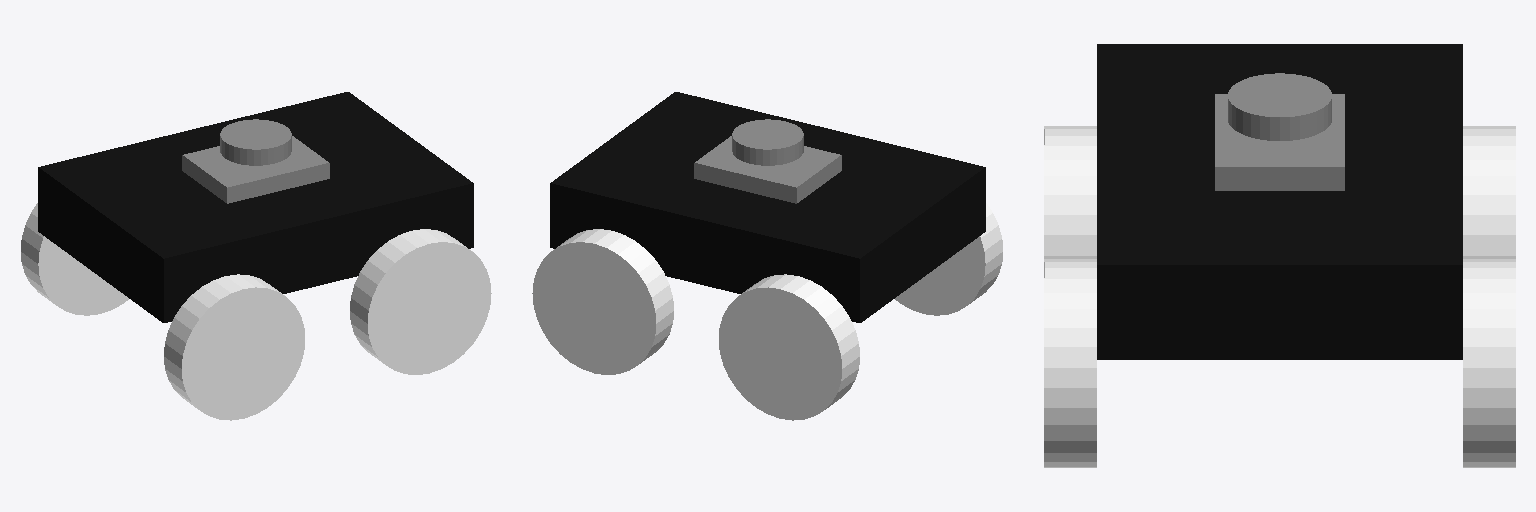
The robot description file, URDF, robot "waverover":
<?xml version="1.0" ?>
<!-- =================================================================================== -->
<!-- |    This document was autogenerated by xacro from waverover.xacro                | -->
<!-- |    EDITING THIS FILE BY HAND IS NOT RECOMMENDED                                 | -->
<!-- =================================================================================== -->
<robot name="waverover">
  <material name="black_color">
    <color rgba="0.1 0.1 0.1 1"/>
  </material>
  <material name="gray">
    <color rgba="0.6 0.6 0.6 1"/>
  </material>
  <material name="white">
    <color rgba="1 1 1 1"/>
  </material>
  <link name="base">
    <visual>
      <geometry>
        <box size="1.0 0.7 0.2"/>
      </geometry>
      <origin rpy="0 0 0" xyz="0 0 0.4"/>
      <material name="black_color"/>
    </visual>
  </link>
  <link name="wheel1">
    <visual>
      <geometry>
        <cylinder length="0.1" radius="0.2"/>
      </geometry>
      <origin rpy="1.5707 0 0" xyz="0 0 0.2"/>
      <material name="white"/>
    </visual>
  </link>
  <link name="wheel2">
    <visual>
      <geometry>
        <cylinder length="0.1" radius="0.2"/>
      </geometry>
      <origin rpy="1.5707 0 0" xyz="0 0 0.2"/>
      <material name="white"/>
    </visual>
  </link>
  <link name="wheel3">
    <visual>
      <geometry>
        <cylinder length="0.1" radius="0.2"/>
      </geometry>
      <origin rpy="1.5707 0 0" xyz="0 0 0.2"/>
      <material name="white"/>
    </visual>
  </link>
  <link name="wheel4">
    <visual>
      <geometry>
        <cylinder length="0.1" radius="0.2"/>
      </geometry>
      <origin rpy="1.5707 0 0" xyz="0 0 0.2"/>
      <material name="white"/>
    </visual>
  </link>
  <link name="lidar_base">
    <visual>
      <geometry>
        <box size="0.33 0.25 0.10"/>
      </geometry>
      <origin rpy="0 0 0" xyz="0 0 0.4"/>
      <material name="gray"/>
    </visual>
  </link>
  <link name="lidar">
    <visual>
      <geometry>
        <cylinder length="0.05" radius="0.1"/>
      </geometry>
      <origin rpy="0 0 0" xyz="0 0 0.4"/>
      <material name="gray"/>
    </visual>
  </link>
  <joint name="joint_wheel1" type="continuous">
    <parent link="base"/>
    <child link="wheel1"/>
    <origin rpy="0 0 0" xyz="0.3 0.4 0"/>
    <axis xyz="0 1 0"/>
  </joint>
  <joint name="joint_wheel2" type="continuous">
    <parent link="base"/>
    <child link="wheel2"/>
    <origin rpy="0 0 0" xyz="0.3 -0.4 0"/>
    <axis xyz="0 1 0"/>
  </joint>
  <joint name="joint_wheel3" type="continuous">
    <parent link="base"/>
    <child link="wheel3"/>
    <origin rpy="0 0 0" xyz="-0.3 0.4 0"/>
    <axis xyz="0 1 0"/>
  </joint>
  <joint name="joint_wheel4" type="continuous">
    <parent link="base"/>
    <child link="wheel4"/>
    <origin rpy="0 0 0" xyz="-0.3 -0.4 0"/>
    <axis xyz="0 1 0"/>
  </joint>
  <joint name="joint_base_lidar" type="fixed">
    <parent link="base"/>
    <child link="lidar_base"/>
    <origin rpy="0 0 0" xyz="0 0 0.1"/>
    <axis xyz="0 0 0"/>
  </joint>
  <joint name="joint_lidar" type="fixed">
    <parent link="lidar_base"/>
    <child link="lidar"/>
    <origin rpy="0 0 0" xyz="0 0 0.1"/>
    <axis xyz="0 0 0"/>
  </joint>
</robot>

--- Render facts (derived) ---
3 views of the same robot in one strip: view 1: azimuth 30°, elevation 25°; view 2: azimuth 150°, elevation 25°; view 3: azimuth 270°, elevation 25° (orthographic).
Robot: waverover — 7 links, 6 joints (4 continuous, 2 fixed); root link base; default pose: every joint at zero.
Visible links, largest first — view 1: base, wheel2, wheel4, lidar_base, wheel3, lidar; view 2: base, wheel1, wheel3, lidar_base, wheel4, lidar; view 3: base, wheel1, wheel2, lidar_base, wheel3, wheel4, lidar.
Link boxes in pixels (box(x1,y1,x2,y2)): base: box(38, 92, 473, 322); wheel2: box(350, 229, 491, 374); wheel4: box(164, 274, 304, 420); lidar_base: box(182, 136, 329, 203); wheel3: box(21, 203, 128, 315); lidar: box(220, 119, 291, 165); base: box(550, 92, 985, 322); wheel1: box(532, 229, 673, 374); wheel3: box(719, 274, 859, 420); lidar_base: box(694, 136, 841, 203); wheel4: box(895, 203, 1002, 315); lidar: box(732, 119, 803, 165); base: box(1097, 44, 1462, 359); wheel1: box(1463, 259, 1515, 467); wheel2: box(1044, 259, 1096, 467); lidar_base: box(1215, 94, 1344, 190); wheel3: box(1463, 126, 1515, 258); wheel4: box(1044, 126, 1096, 258); lidar: box(1228, 73, 1331, 140).
Size in the robot's own frame: 1 by 0.9 by 0.625 metres.
Geometry: primitives only (box / cylinder / sphere), no mesh files.
